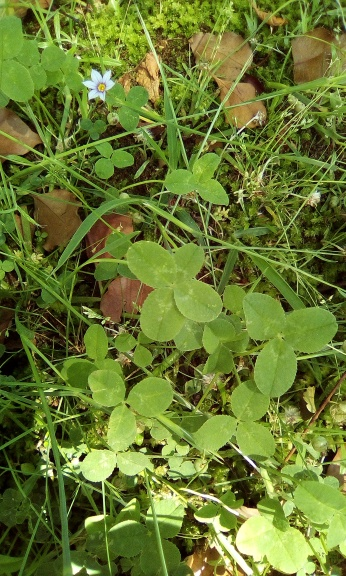4leaf: (125, 240, 223, 343)
